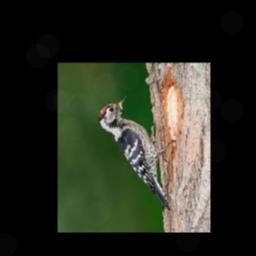Woodpecker: (97, 96, 175, 209)
